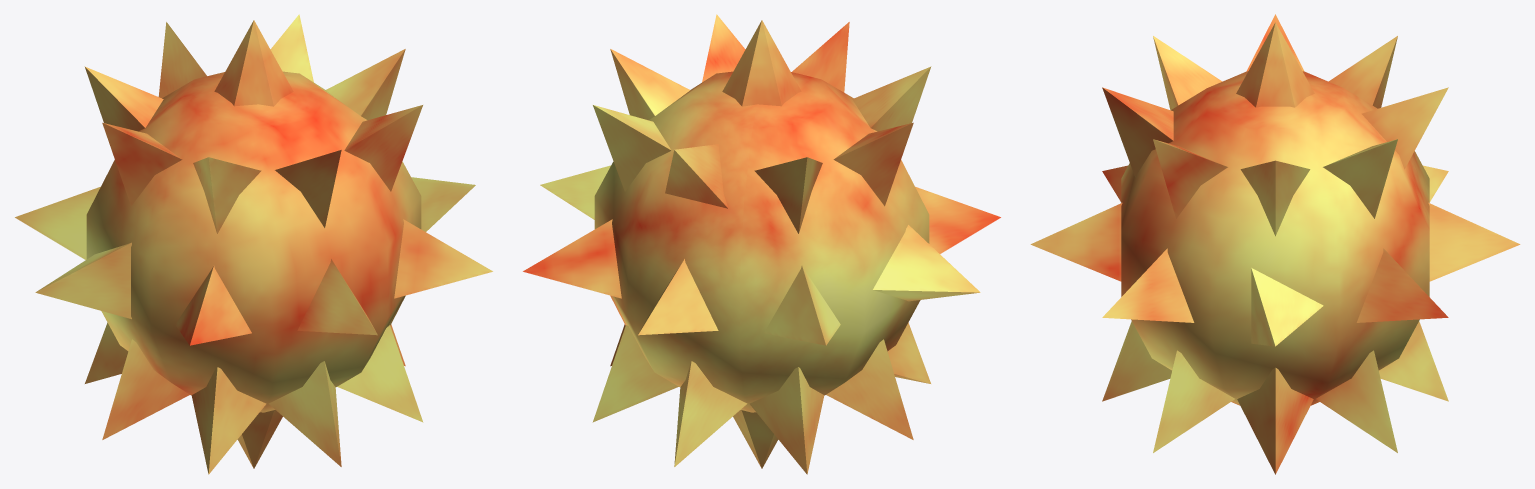
3 views of the same model, side by side, from view 1: azimuth 30°, elevation 25°; view 2: azimuth 150°, elevation 25°; view 3: azimuth 270°, elevation 25° (orthographic).
Visible parts, largest first — view 1: SpikeBall; view 2: SpikeBall; view 3: SpikeBall.
Part boxes in pixels (x1=…): SpikeBall: x1=15, y1=14, x2=492, y2=474; SpikeBall: x1=523, y1=14, x2=1000, y2=474; SpikeBall: x1=1030, y1=14, x2=1520, y2=474.
Bounding box in the file's own units: 2.94 × 2.87 × 2.87.
Materials: 1 (1 with a texture image).
